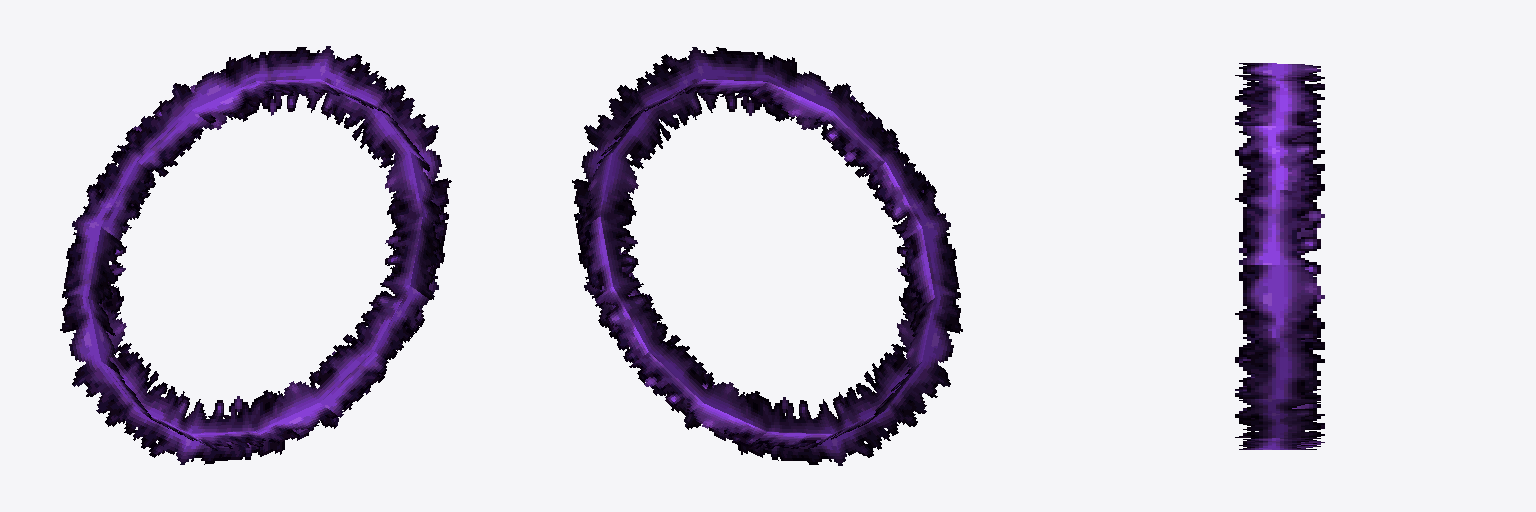
The picture shows the model from 3 angles: view 1: azimuth 30°, elevation 25°; view 2: azimuth 150°, elevation 25°; view 3: azimuth 270°, elevation 25°; orthographic projection.
Parts seen in each view (by area): view 1: T1L3M008_25; view 2: T1L3M008_25; view 3: T1L3M008_25.
Part boxes in pixels (x1,y1,x2,y2): T1L3M008_25: (60,46,451,464); T1L3M008_25: (572,47,962,465); T1L3M008_25: (1235,63,1324,449).
Bounding box in the file's own units: 2.83 × 2.83 × 0.5957.
1 materials, 1 textured.